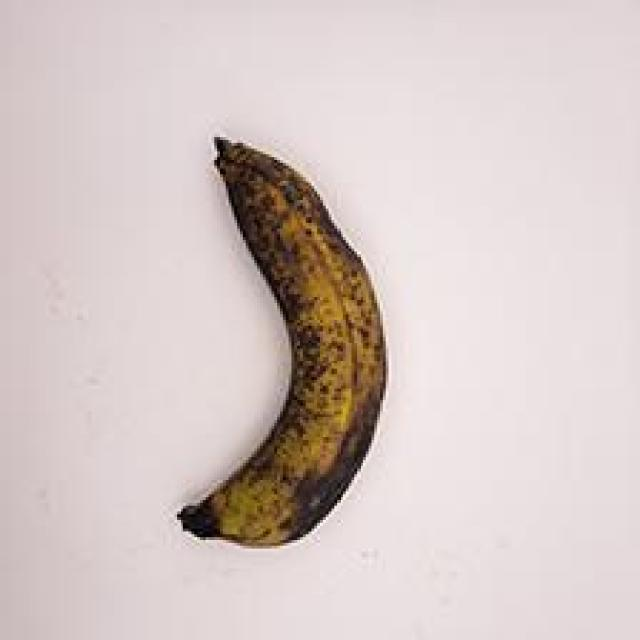Overripe: (138, 83, 411, 593)
